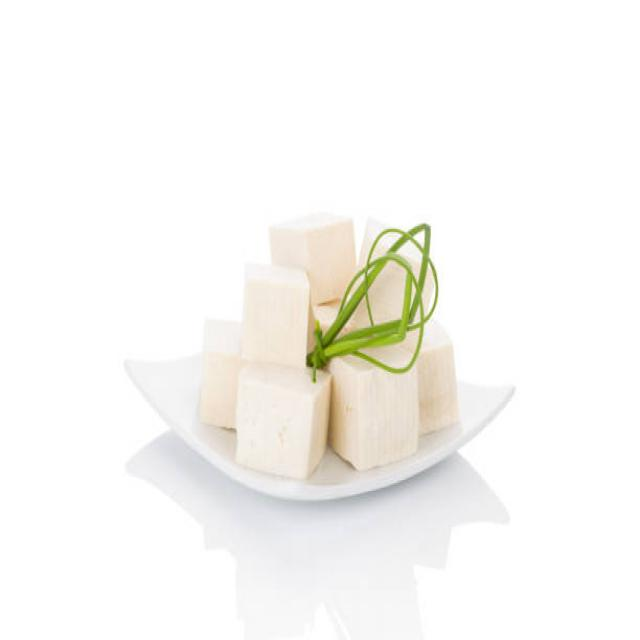tofu: (233, 366, 318, 480), (334, 368, 419, 470), (240, 262, 308, 361), (270, 206, 358, 270), (198, 316, 235, 423)
